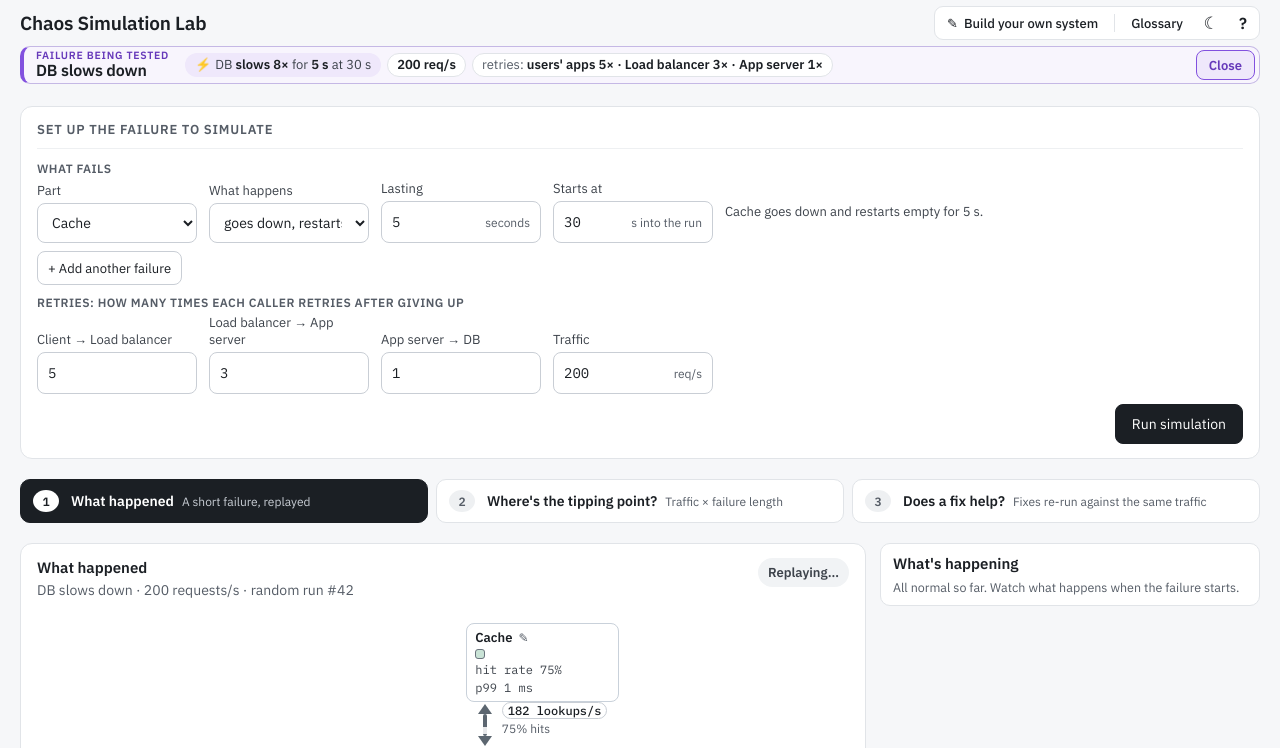
Test case: App › chooses the failure in one place, the editor: any part, any way it can fail, named and mapped as such
Earlier steps of the test are not shown.
Later steps or results of the test are not shown.
Step 1. Click the button "Run simulation" → {"x": 1179, "y": 424}, box [1115,404,1243,444]
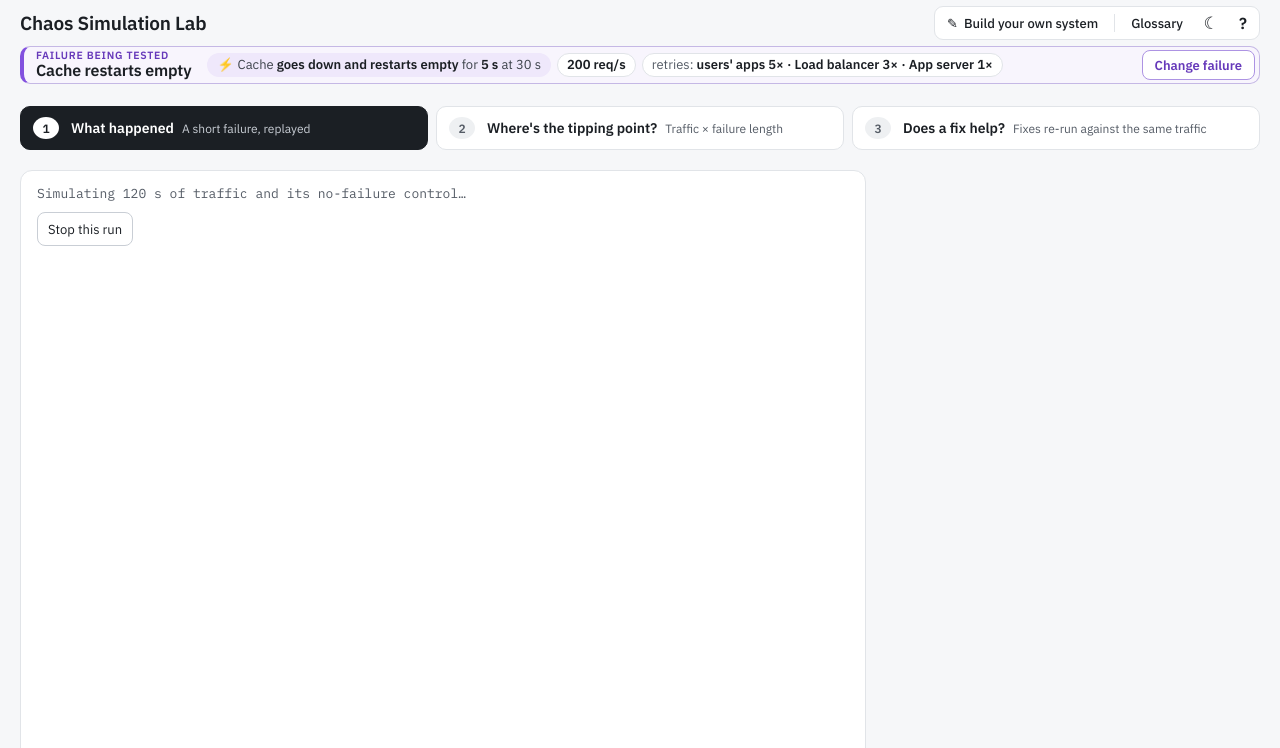
Check: the element named "Scenario" shows "Cache goes down and restarts empty for 5 s", box [20,46,1260,84]
Step 2. Click the button "Change failure" → {"x": 1198, "y": 65}, box [1142,50,1255,80]
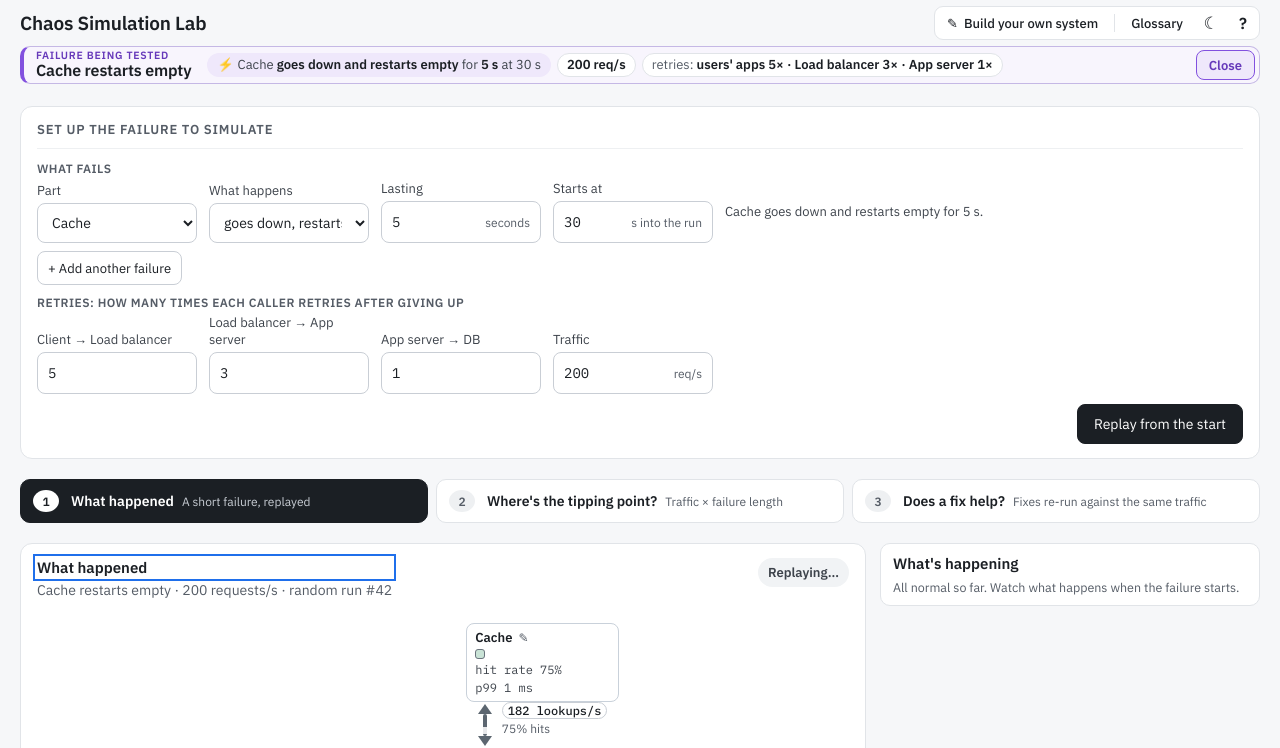
Step 3. Select "Load balancer" in the dropdown labelled "Part" → {"x": 117, "y": 223}, box [37,203,197,243]
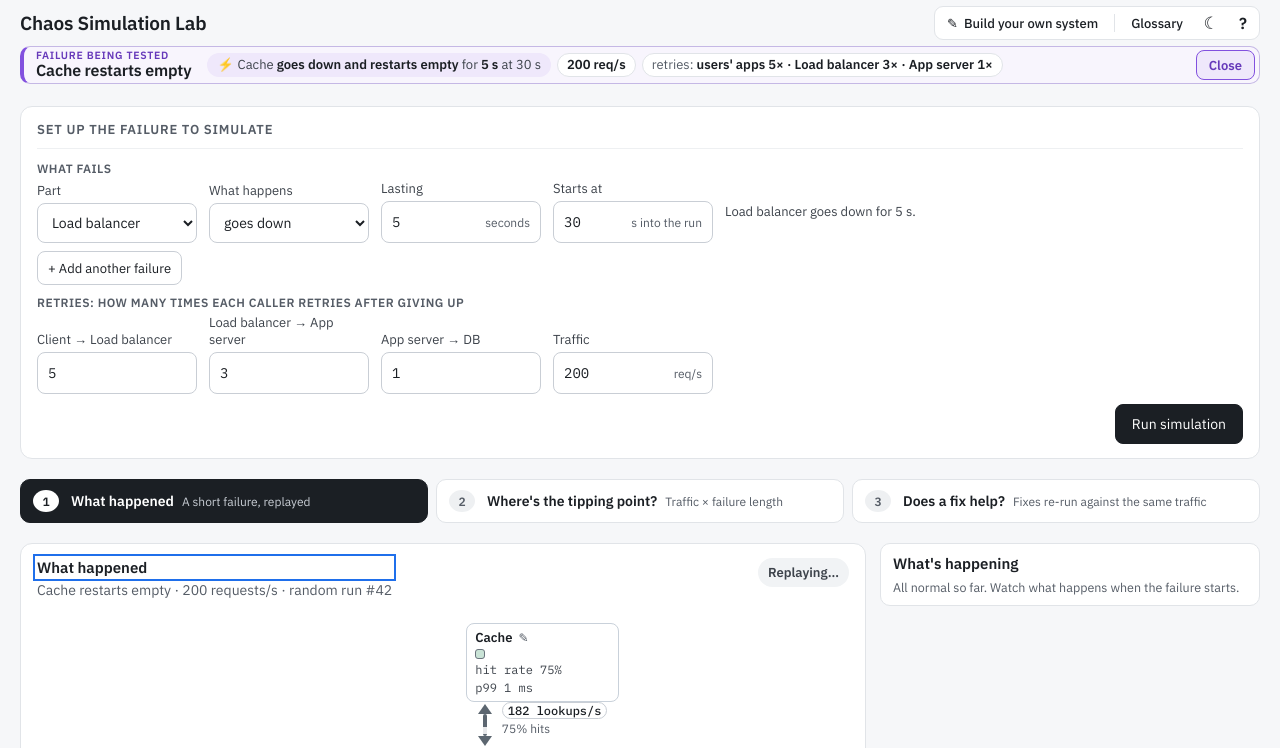
Step 4. Select "slows down" in the dropdown labelled "What happens" → {"x": 289, "y": 223}, box [209,203,369,243]
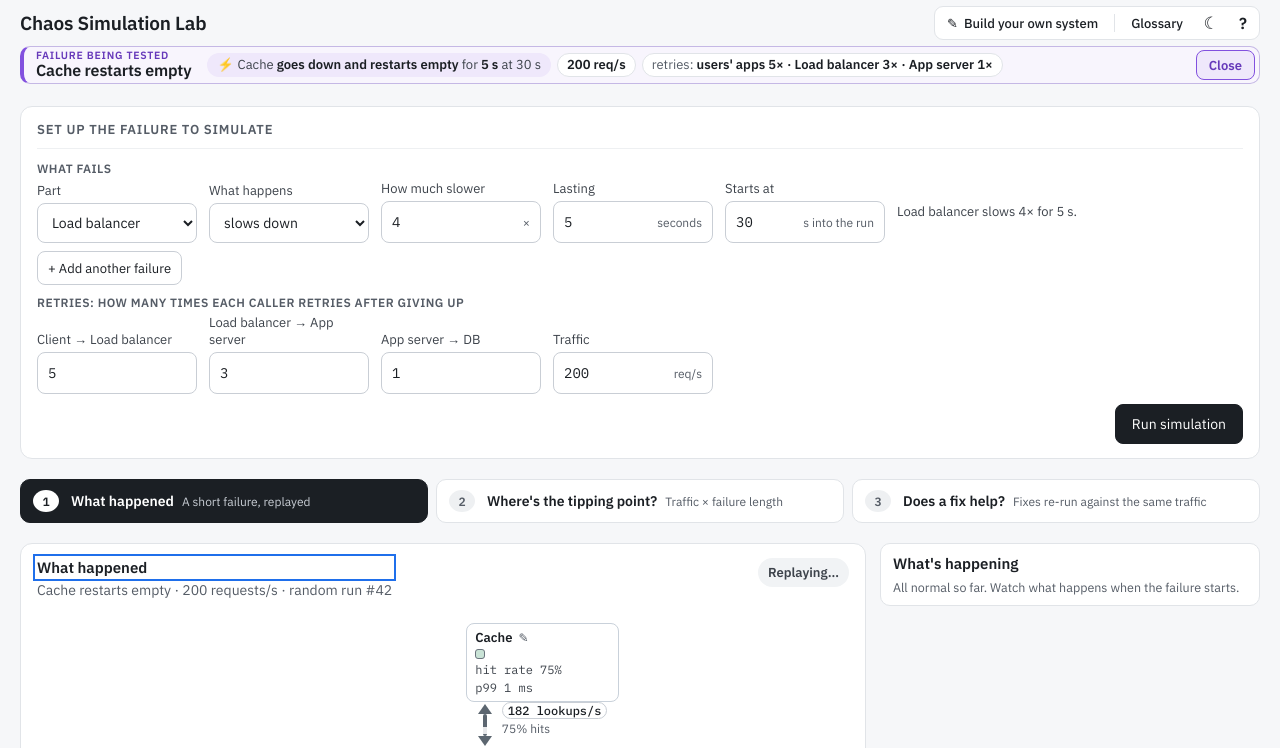
Step 5. Click the button "Run simulation" → {"x": 1179, "y": 424}, box [1115,404,1243,444]
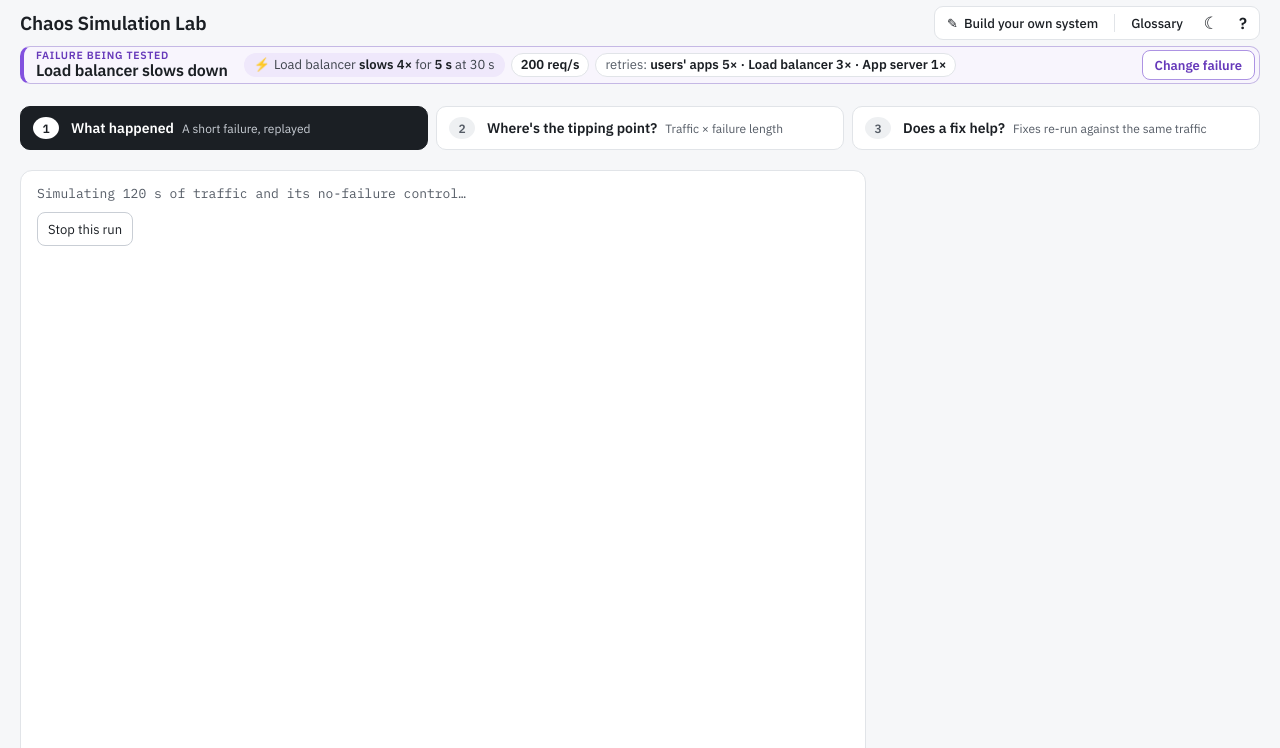
Step 6. Click the button "Change failure" → {"x": 1198, "y": 65}, box [1142,50,1255,80]
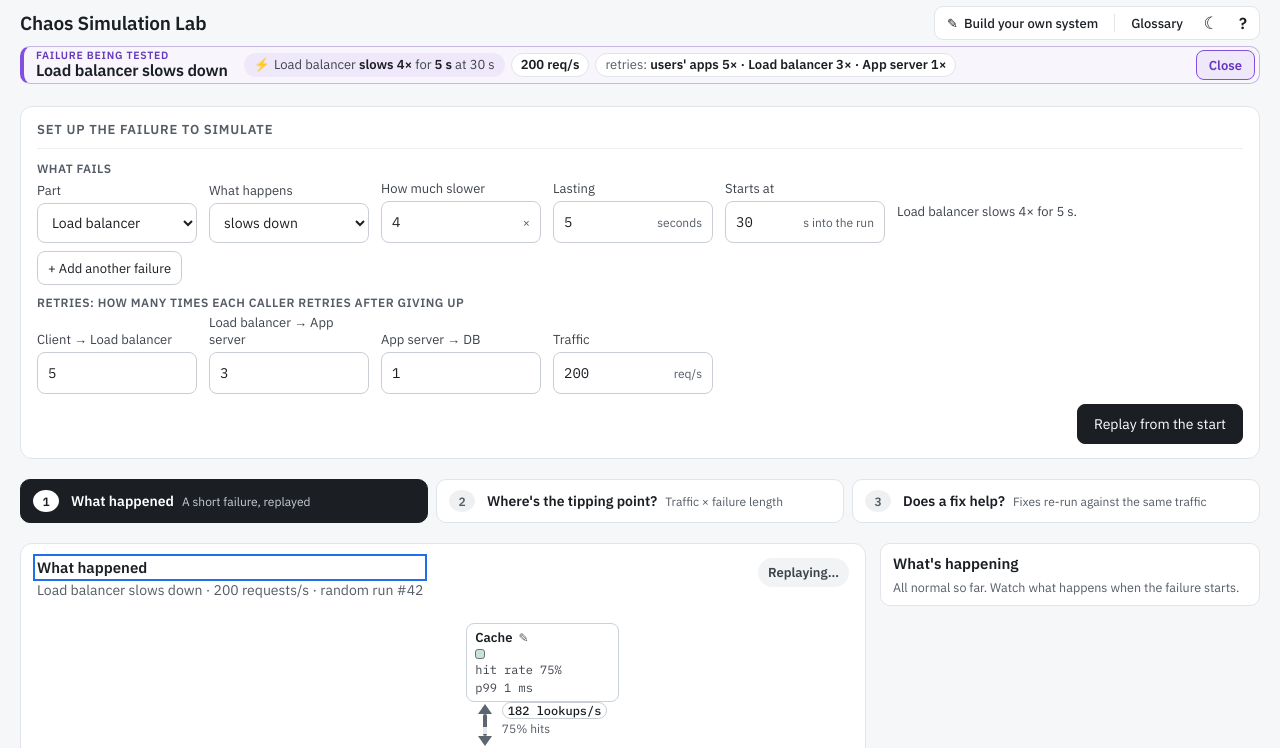
Check: the dropdown labelled "Part" shows "Load balancer", box [37,203,197,243]
